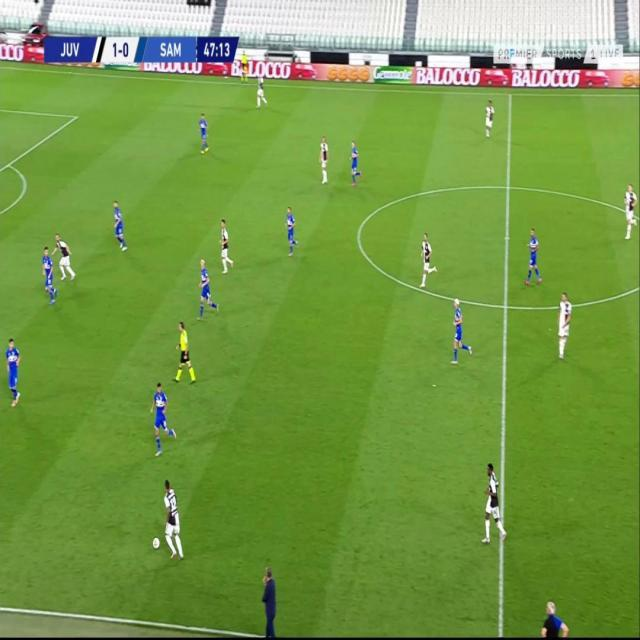ball: (153, 535, 161, 550)
player: (481, 457, 507, 546), (148, 379, 176, 454), (161, 476, 183, 562), (451, 296, 472, 364), (3, 332, 22, 406), (555, 287, 573, 361), (197, 257, 218, 320), (53, 232, 76, 283), (418, 232, 438, 288), (524, 226, 542, 287), (621, 178, 638, 241), (217, 217, 234, 275), (111, 198, 128, 253), (42, 245, 56, 305), (285, 205, 299, 258), (348, 139, 362, 186), (318, 134, 330, 186), (197, 110, 209, 154), (483, 98, 495, 139), (255, 72, 268, 108)
referee: (174, 319, 196, 384), (240, 49, 248, 81)
